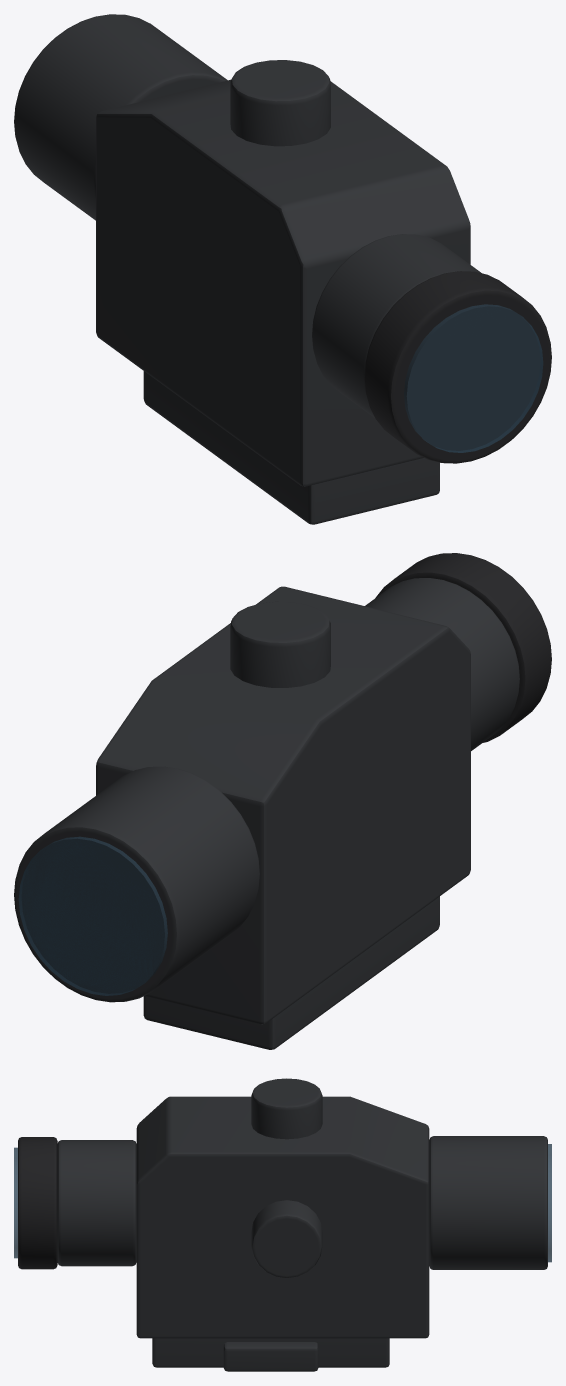
File: mod_rail_prism_scope.glb
3 views of the same model, one above another, from view 1: azimuth 30°, elevation 25°; view 2: azimuth 150°, elevation 25°; view 3: azimuth 270°, elevation 25° (orthographic). The views are drawn at different scales.
Visible parts, largest first — view 1: PrismScope, PrismScopeLens; view 2: PrismScope, PrismScopeLens; view 3: PrismScope, PrismScopeLens.
Part boxes in pixels (x1,y1,x2,y2): PrismScope: (14, 14, 551, 524); PrismScopeLens: (404, 304, 543, 452); PrismScope: (14, 553, 551, 1049); PrismScopeLens: (18, 836, 167, 995); PrismScope: (18, 1078, 547, 1371); PrismScopeLens: (14, 1144, 551, 1262).
Bounding box in the file's own units: 0.044 × 0.071 × 0.136.
